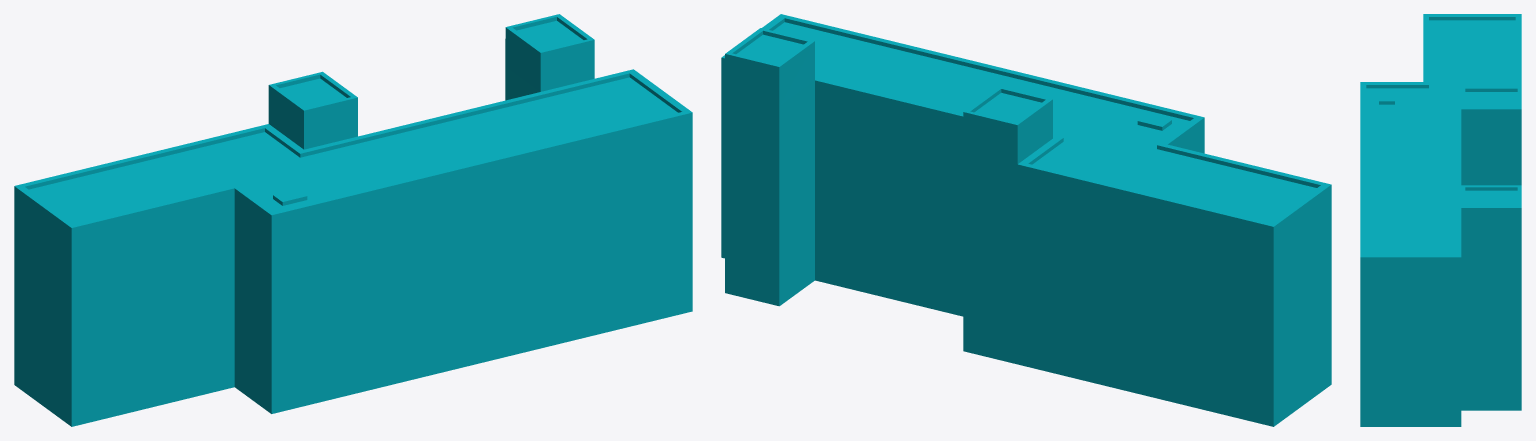
File: student1.FBX
3 renders of one model, left to right at view 1: azimuth 30°, elevation 25°; view 2: azimuth 150°, elevation 25°; view 3: azimuth 270°, elevation 25°, orthographic. The views are drawn at different scales.
Parts seen in each view (by area): view 1: 学生公寓1; view 2: 学生公寓1; view 3: 学生公寓1.
Part boxes in pixels (bbox=[...]): 学生公寓1: bbox=[14, 14, 692, 426]; 学生公寓1: bbox=[721, 14, 1331, 426]; 学生公寓1: bbox=[1360, 14, 1521, 426].
Bounding box in the file's own units: 32.25 × 12.55 × 9.03.
